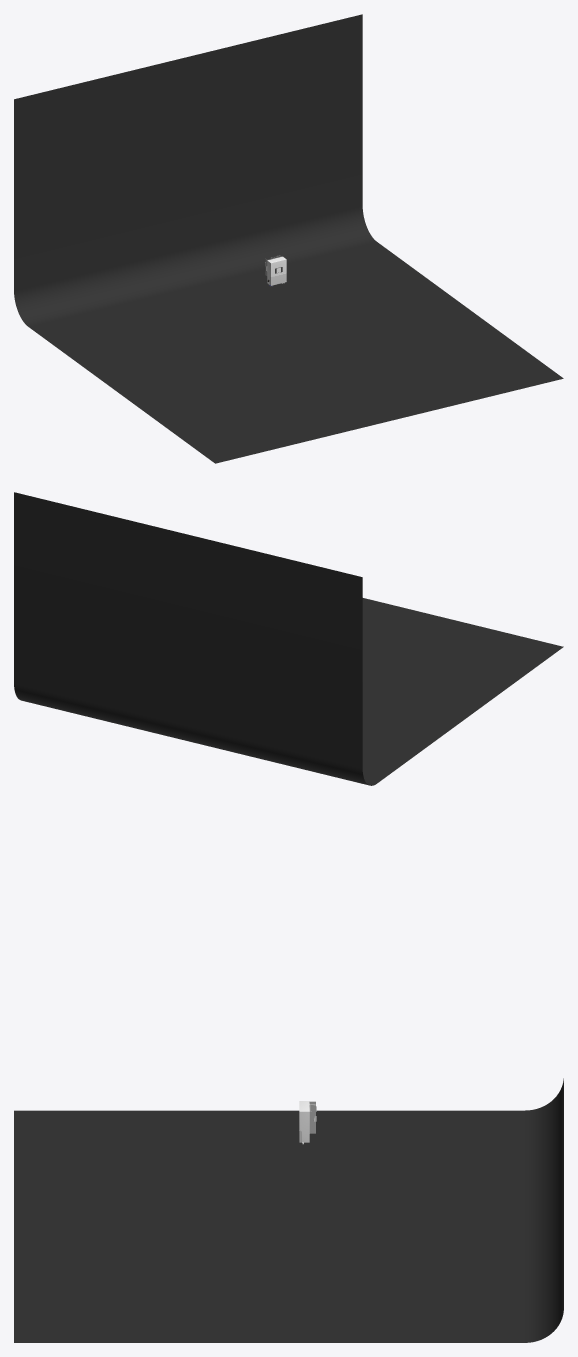
File: inverter.glb
3 renders of one model, top to bottom at view 1: azimuth 30°, elevation 25°; view 2: azimuth 150°, elevation 25°; view 3: azimuth 270°, elevation 25°, orthographic. The views are drawn at different scales.
Visible parts, largest first — view 1: Plane.008; view 2: Plane.008; view 3: Plane.008.
Part boxes in pixels (x1,y1,x2,y2): Plane.008: [14, 14, 563, 463]; Plane.008: [14, 492, 563, 785]; Plane.008: [14, 1078, 563, 1342].
Size of the model in its own units: 5.73 by 3.41 by 5.73.
Materials: 19 (2 with a texture image).
